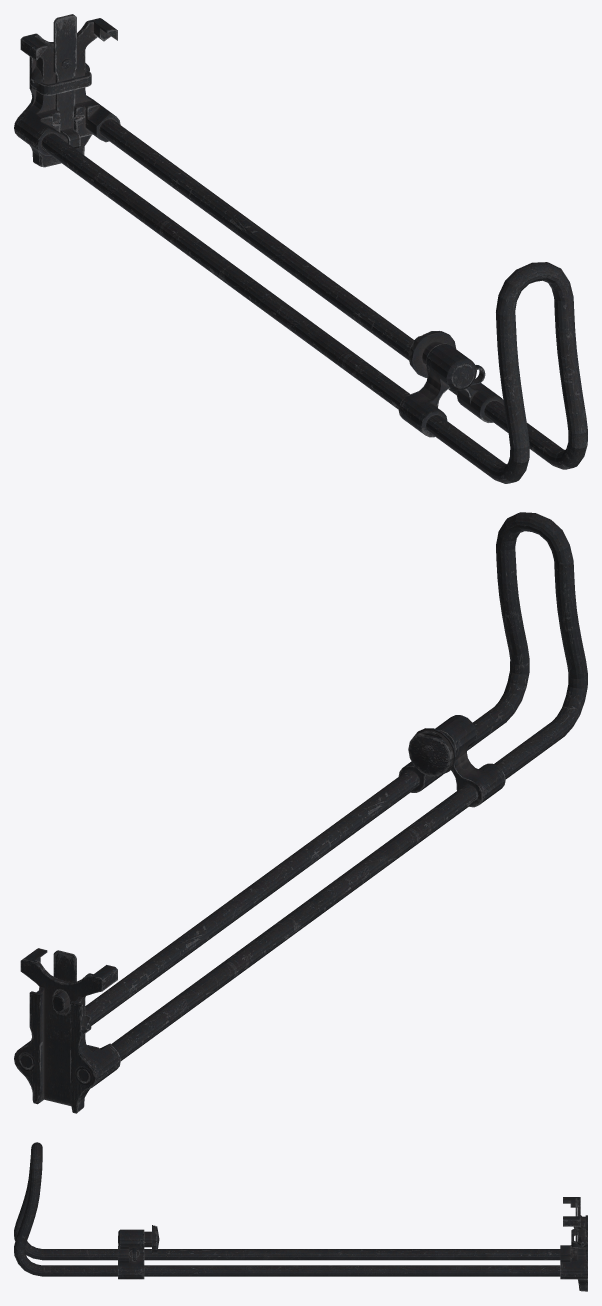
The picture shows the model from 3 angles, top to bottom: view 1: azimuth 30°, elevation 25°; view 2: azimuth 150°, elevation 25°; view 3: azimuth 270°, elevation 25°; orthographic projection. The views are drawn at different scales.
Parts seen in each view (by area): view 1: TW_5a17fb9dfcdbcbcae6687291_PZ_Import; view 2: TW_5a17fb9dfcdbcbcae6687291_PZ_Import; view 3: TW_5a17fb9dfcdbcbcae6687291_PZ_Import.
Boxes of the visible parts, bbox=[...] form: TW_5a17fb9dfcdbcbcae6687291_PZ_Import: bbox=[14, 14, 587, 483]; TW_5a17fb9dfcdbcbcae6687291_PZ_Import: bbox=[14, 512, 587, 1113]; TW_5a17fb9dfcdbcbcae6687291_PZ_Import: bbox=[14, 1142, 587, 1291].
Bounding box in the file's own units: 0.018 × 0.1851 × 0.0501.
Materials: 1 (1 with a texture image).
